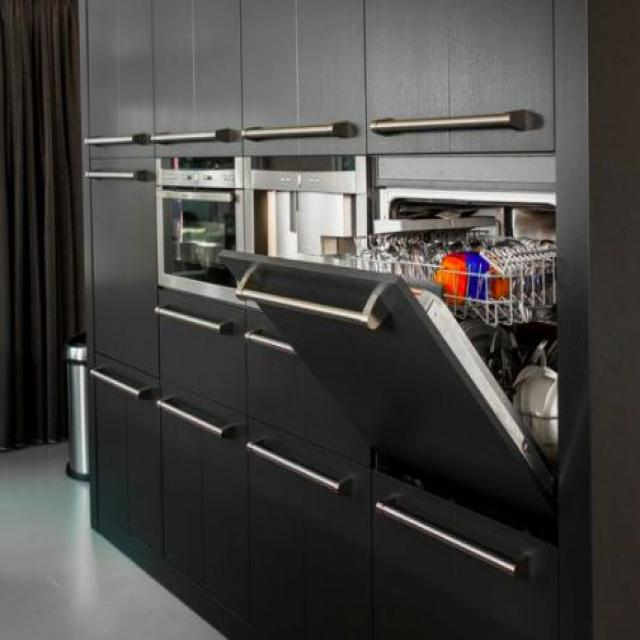dishwasher: (220, 150, 554, 510)
